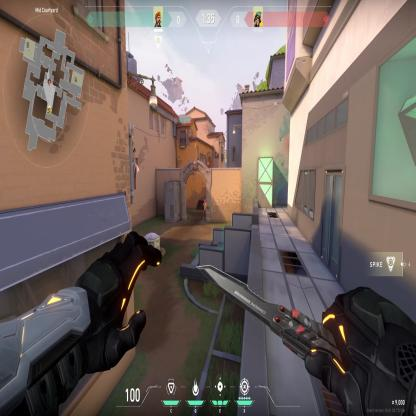enemy: (202, 198, 206, 221)
